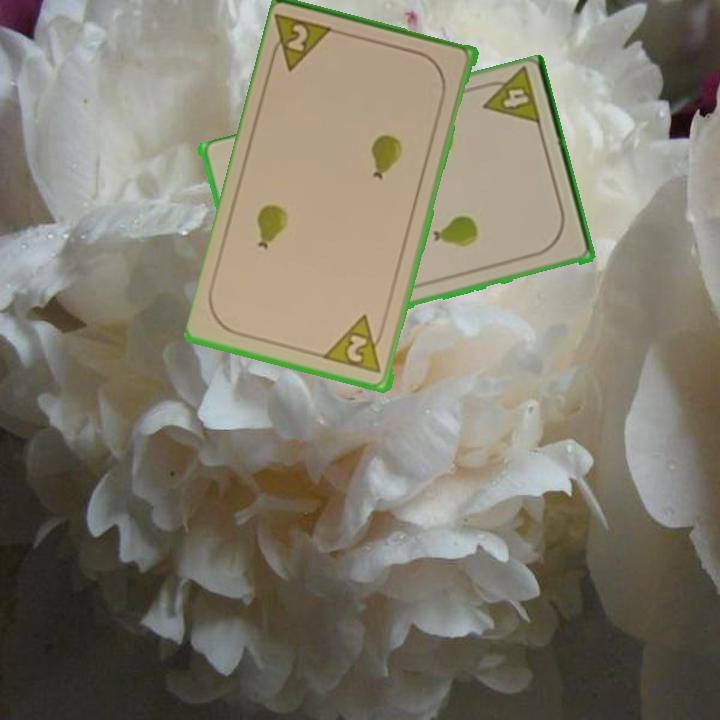2p: (266, 11, 339, 75), (322, 312, 387, 377)
4p: (474, 67, 544, 131)
